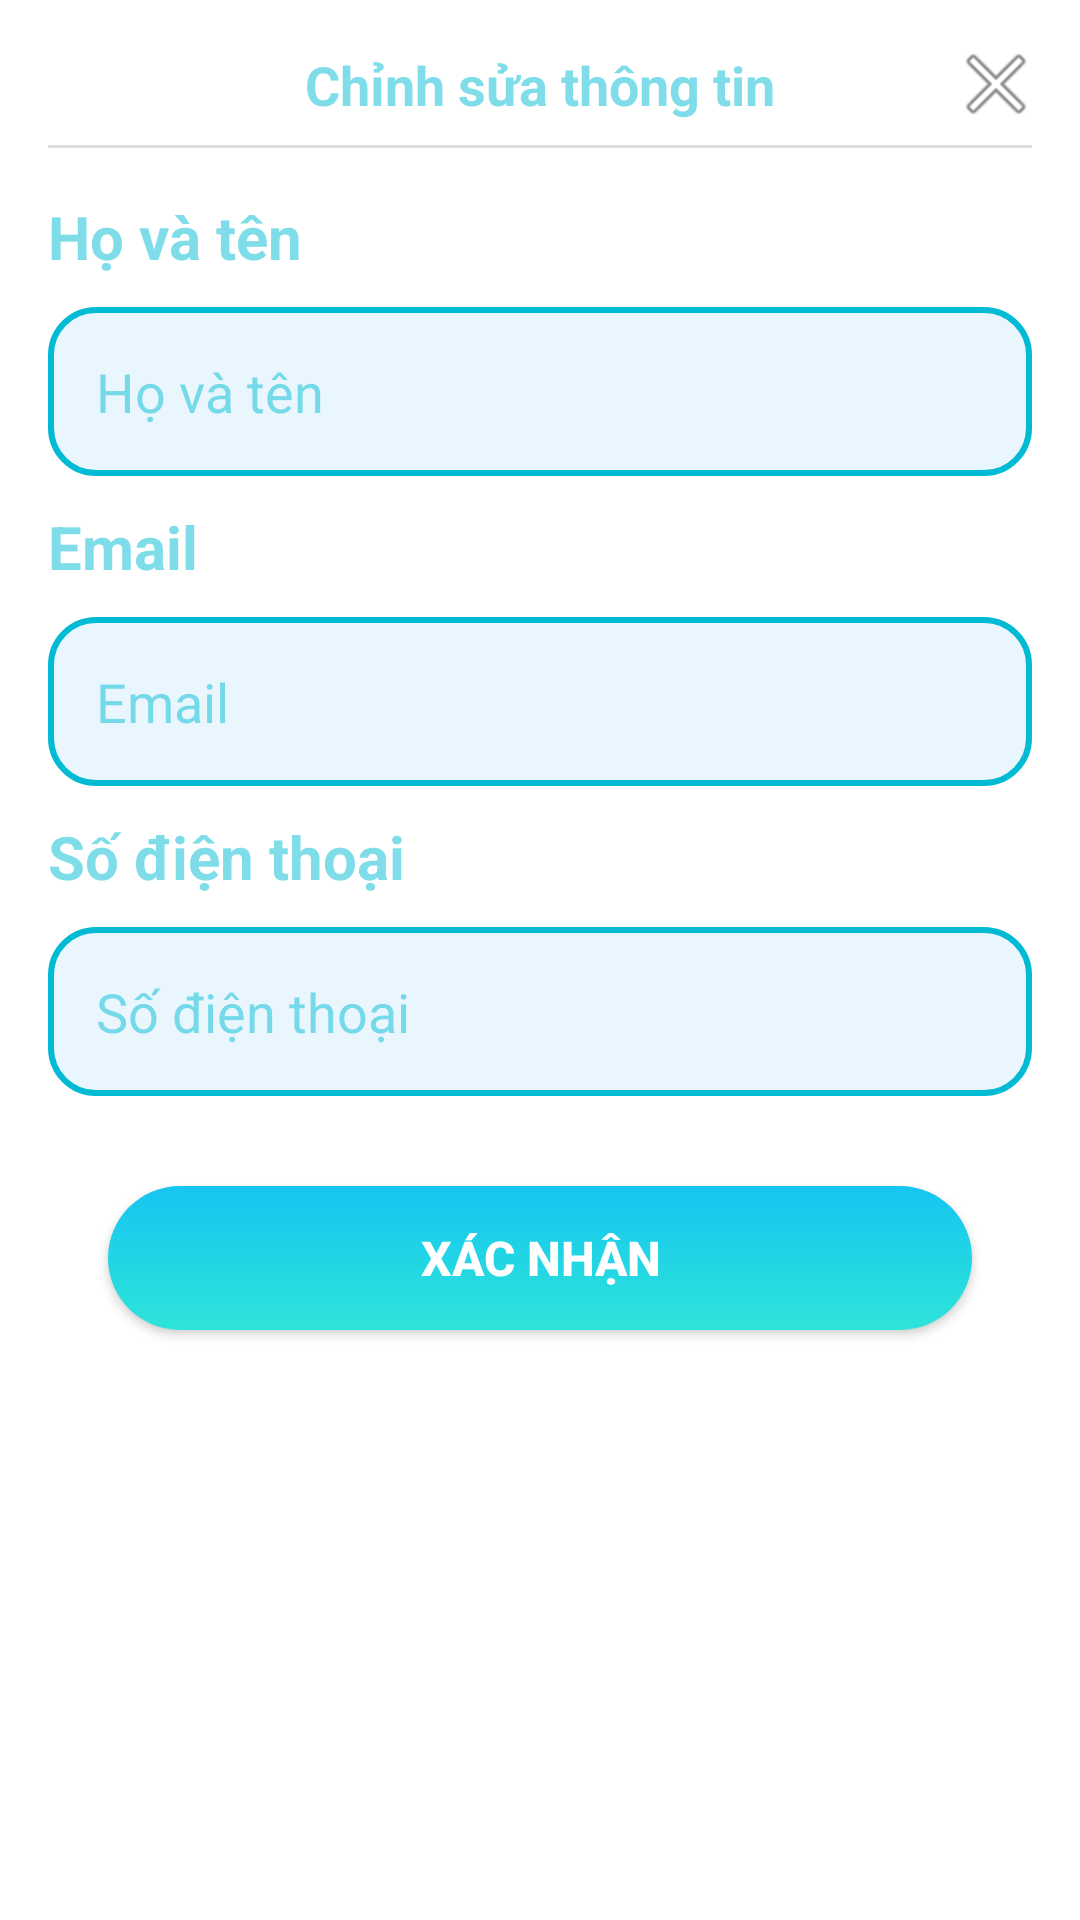

Icons on this 1080px×1920px Android screen, each with the point to tap as point (x, y):
close clear cancel: point (996, 84)
